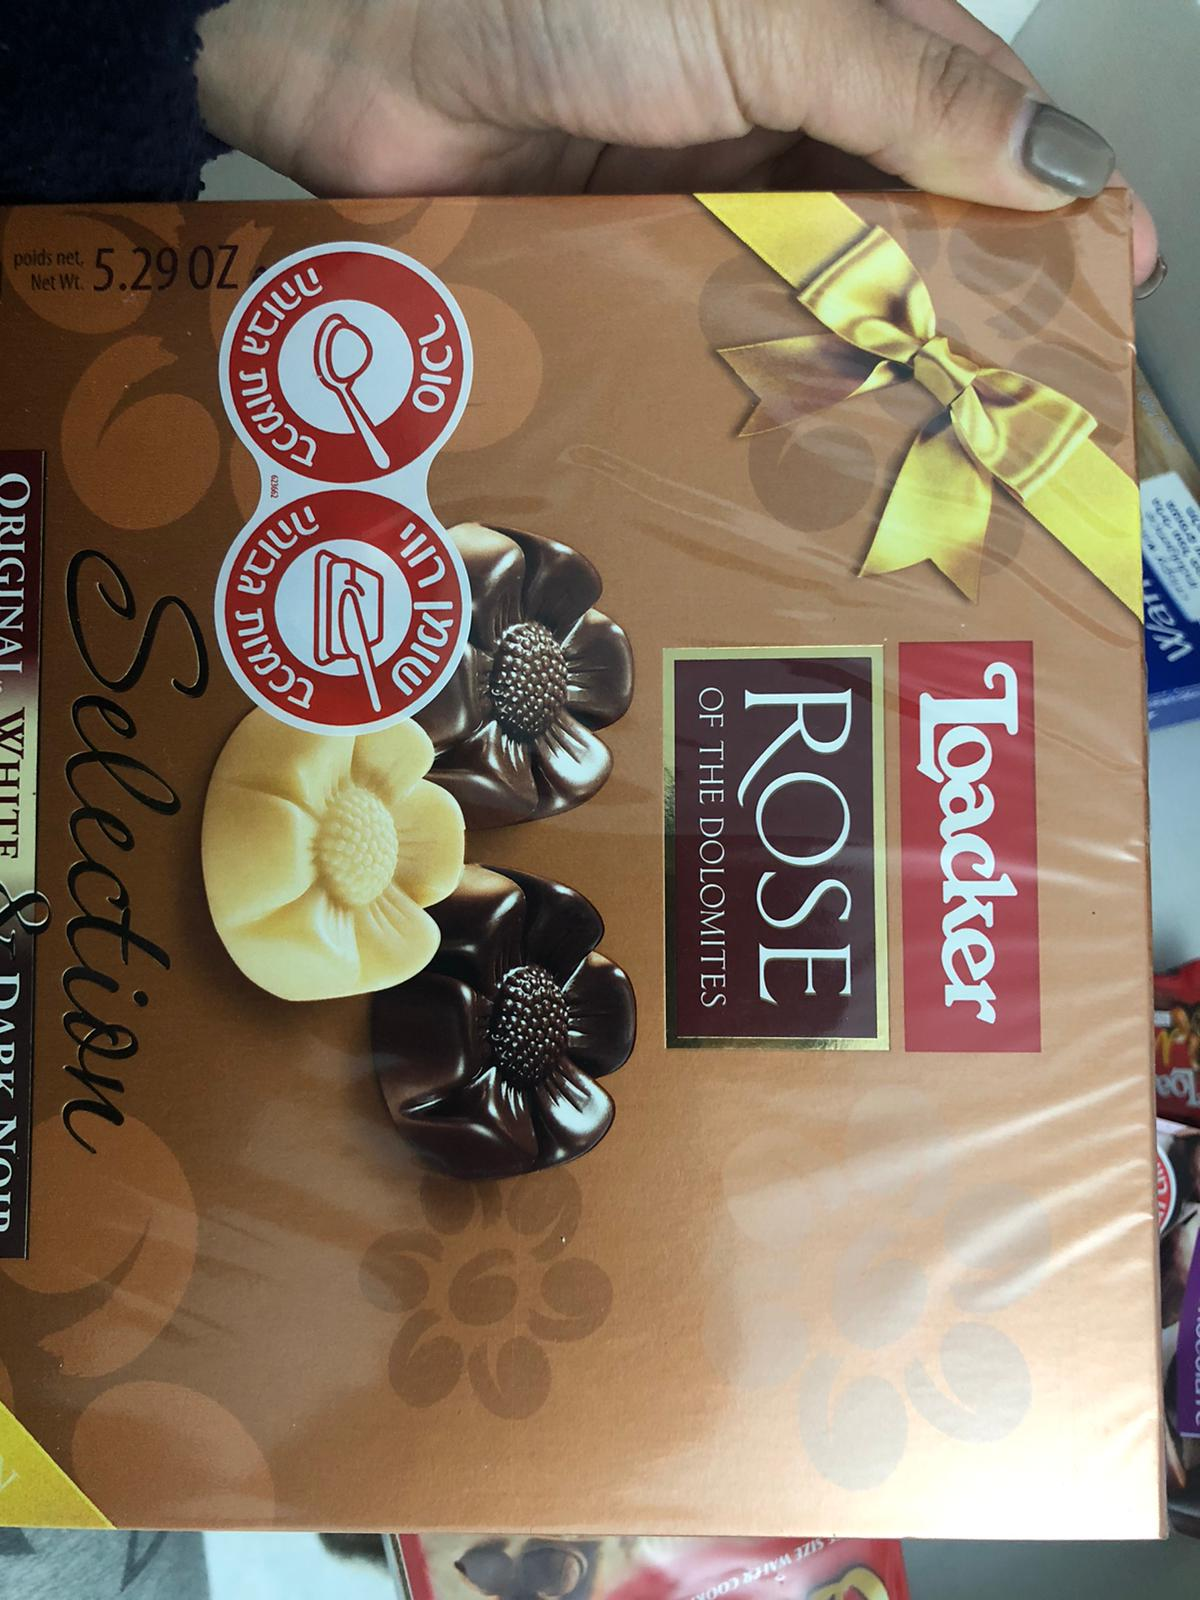fat: (209, 486, 474, 741)
sugar: (217, 239, 466, 488)
